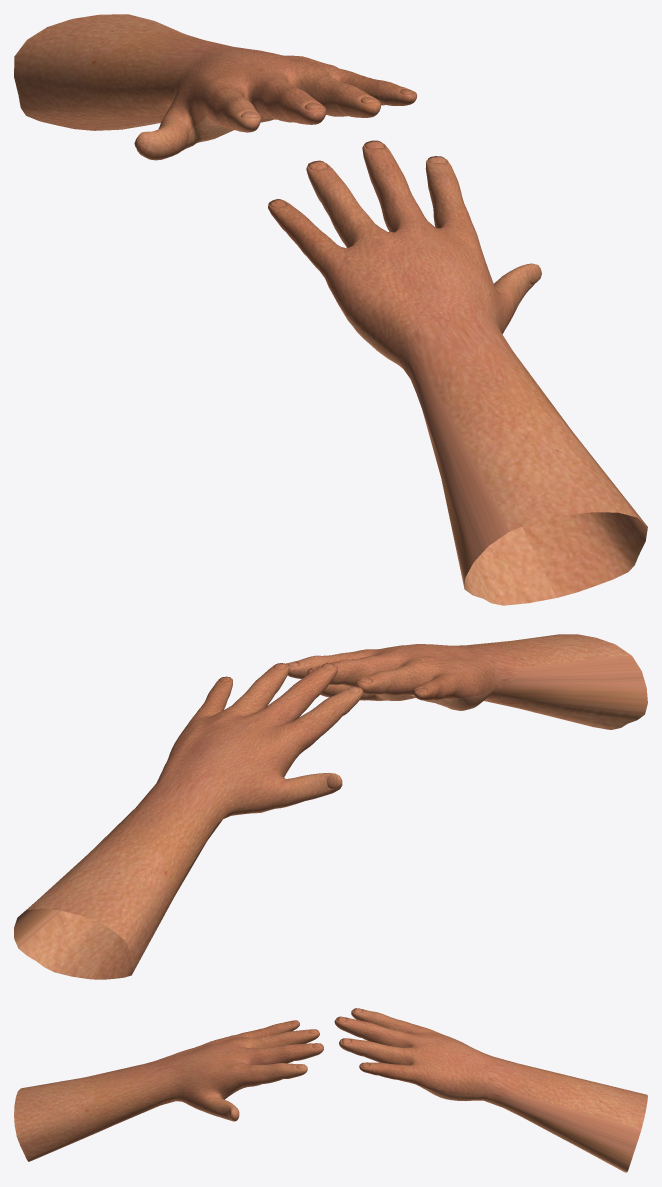
The model's file is hands_000053.obj.
3 views of the same model, one above another, from view 1: azimuth 30°, elevation 25°; view 2: azimuth 150°, elevation 25°; view 3: azimuth 270°, elevation 25° (orthographic). The views are drawn at different scales.
Parts seen in each view (by area): view 1: hand.001_Mesh.001, hand_Mesh; view 2: hand_Mesh, hand.001_Mesh.001; view 3: hand_Mesh, hand.001_Mesh.001.
Boxes of the visible parts, bbox=[...] form: hand.001_Mesh.001: bbox=[268, 140, 647, 605]; hand_Mesh: bbox=[14, 14, 416, 160]; hand_Mesh: bbox=[14, 663, 363, 979]; hand.001_Mesh.001: bbox=[286, 634, 647, 729]; hand_Mesh: bbox=[334, 1008, 647, 1172]; hand.001_Mesh.001: bbox=[14, 1020, 323, 1161].
Bounding box in the file's own units: 1.71 × 1.57 × 6.17.
1 material, 1 textured.
